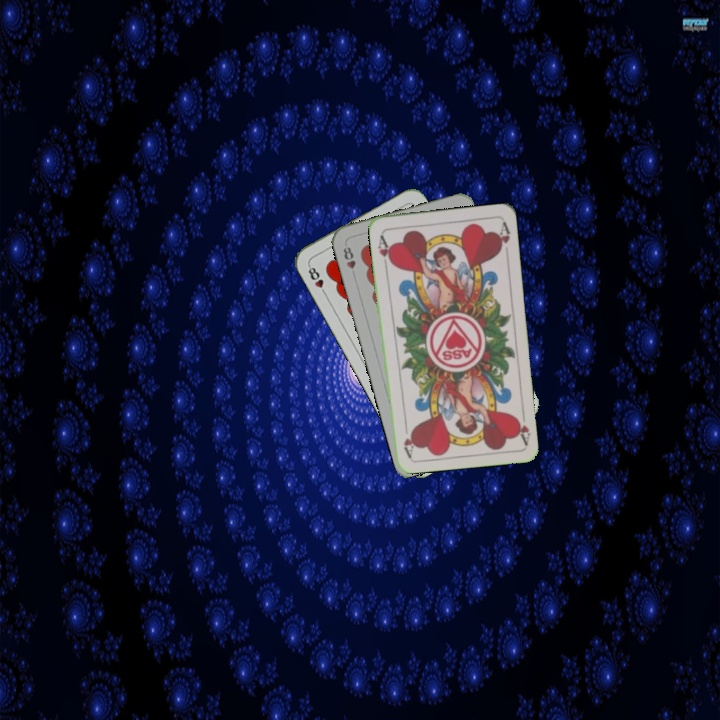H8: (304, 261, 329, 298), (339, 243, 358, 271)
HA: (511, 406, 533, 446), (374, 231, 395, 270)
